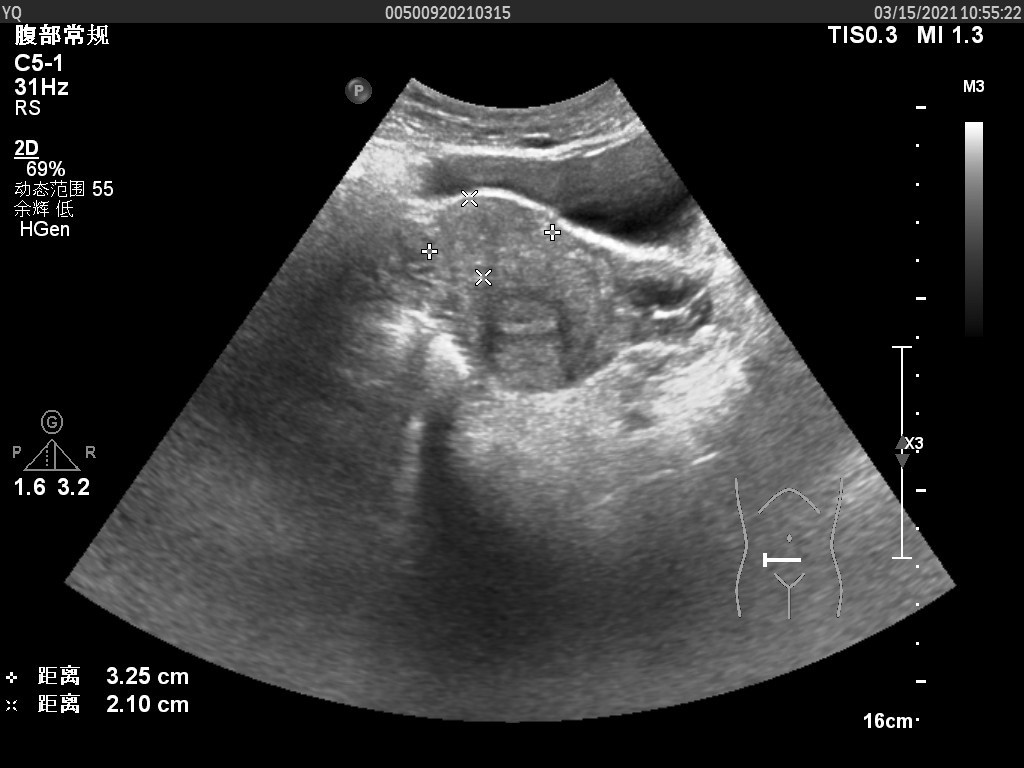肌瘤: (433, 196, 557, 280)
